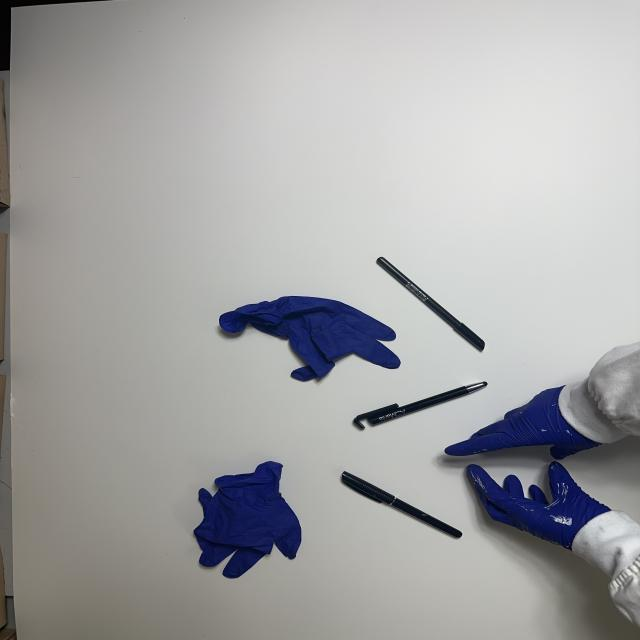gloves_contaminated: (468, 462, 610, 550), (445, 388, 599, 460)
